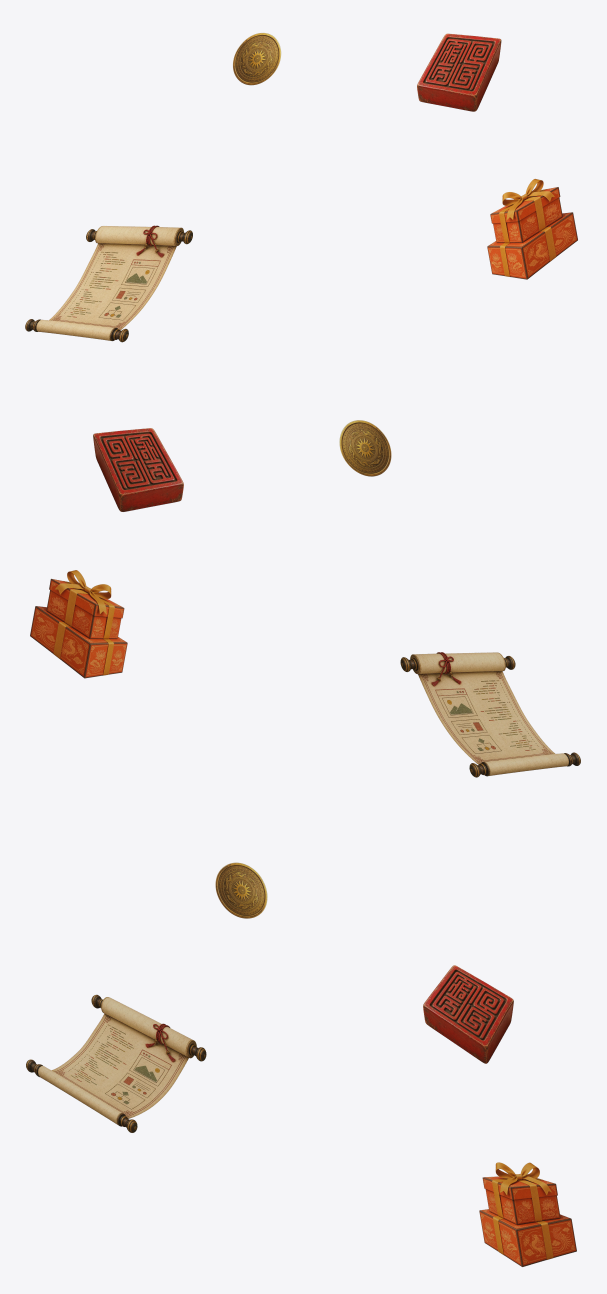
3 renders of one model, top to bottom at view 1: azimuth 30°, elevation 25°; view 2: azimuth 150°, elevation 25°; view 3: azimuth 330°, elevation 25°, orthographic. The views are drawn at different scales.
Parts seen in each view (by area): view 1: Vietfolk_b2b_scroll, Vietfolk_b2b_giftbox, Vietfolk_b2b_stamp, Vietfolk_b2b_coin; view 2: Vietfolk_b2b_scroll, Vietfolk_b2b_giftbox, Vietfolk_b2b_stamp, Vietfolk_b2b_coin; view 3: Vietfolk_b2b_scroll, Vietfolk_b2b_giftbox, Vietfolk_b2b_stamp, Vietfolk_b2b_coin.
Boxes of the visible parts, bbox=[...] form: Vietfolk_b2b_scroll: bbox=[25, 225, 192, 342]; Vietfolk_b2b_giftbox: bbox=[487, 179, 577, 279]; Vietfolk_b2b_stamp: bbox=[417, 33, 501, 111]; Vietfolk_b2b_coin: bbox=[233, 33, 281, 85]; Vietfolk_b2b_scroll: bbox=[400, 652, 580, 777]; Vietfolk_b2b_giftbox: bbox=[30, 570, 127, 678]; Vietfolk_b2b_stamp: bbox=[93, 428, 183, 511]; Vietfolk_b2b_coin: bbox=[339, 420, 391, 476]; Vietfolk_b2b_scroll: bbox=[26, 994, 206, 1132]; Vietfolk_b2b_giftbox: bbox=[479, 1162, 576, 1266]; Vietfolk_b2b_stamp: bbox=[423, 965, 513, 1063]; Vietfolk_b2b_coin: bbox=[215, 862, 267, 918].
Bounding box in the file's own units: 2.88 × 1.65 × 0.18.
Materials: 4 (4 with a texture image).
